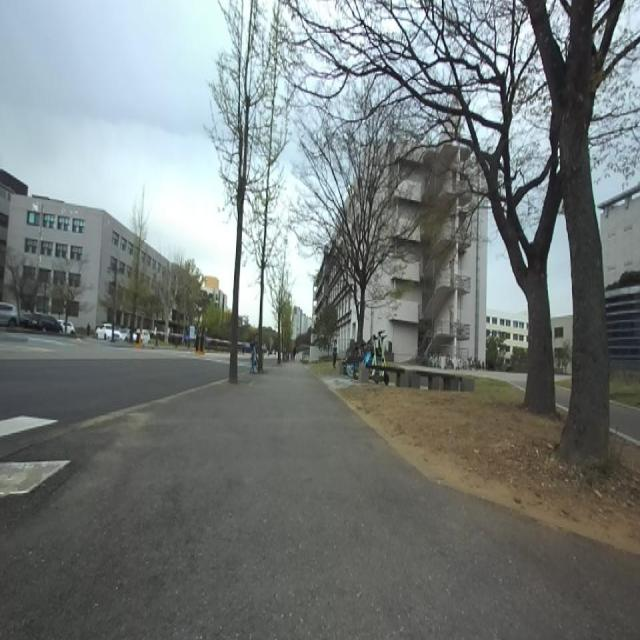sidewalk: (0, 364, 640, 638)
